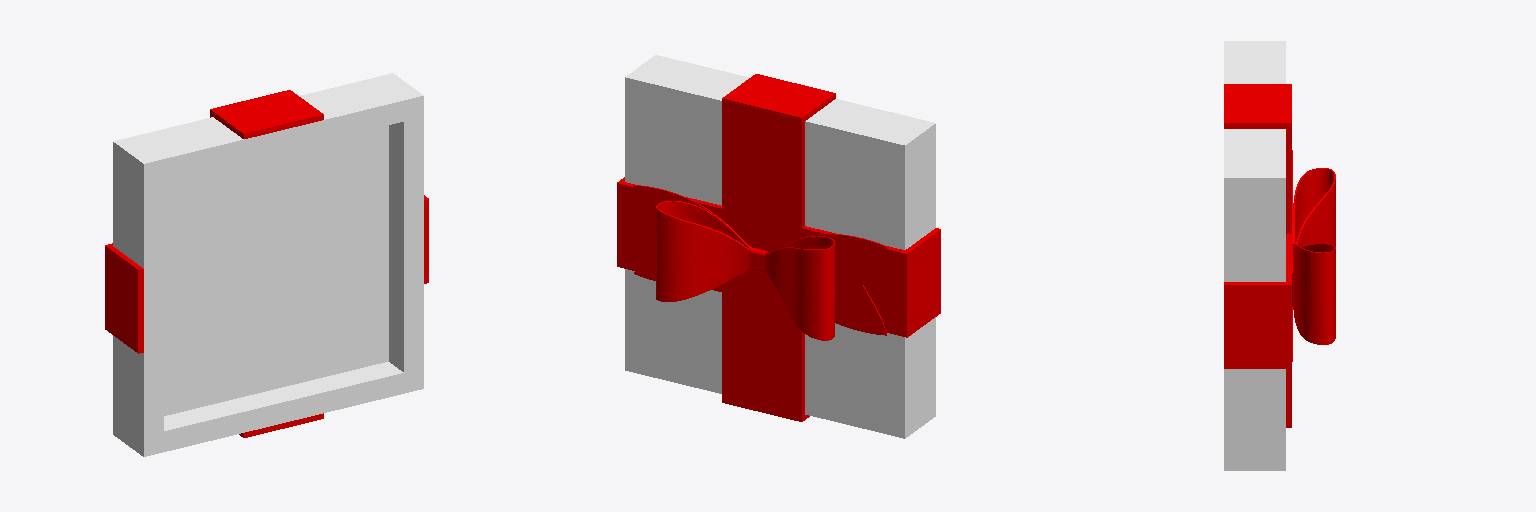
Rendered from lid.obj.
The picture shows the model from 3 angles: view 1: azimuth 30°, elevation 25°; view 2: azimuth 150°, elevation 25°; view 3: azimuth 270°, elevation 25°; orthographic projection.
Visible parts, largest first — view 1: ふた, ふたリボン; view 2: ふたリボン, ふた; view 3: ふた, ふたリボン.
Boxes of the visible parts, box(x1,y1,x2,y2) form: ふた: box(113, 73, 423, 456); ふたリボン: box(105, 90, 428, 437); ふたリボン: box(617, 74, 940, 421); ふた: box(625, 55, 935, 438); ふた: box(1224, 41, 1285, 470); ふたリボン: box(1224, 84, 1335, 427).
Bounding box in the file's own units: 109 × 109 × 36.25.